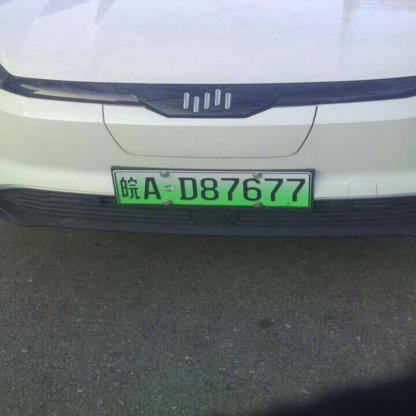lp: (113, 170, 309, 206)
